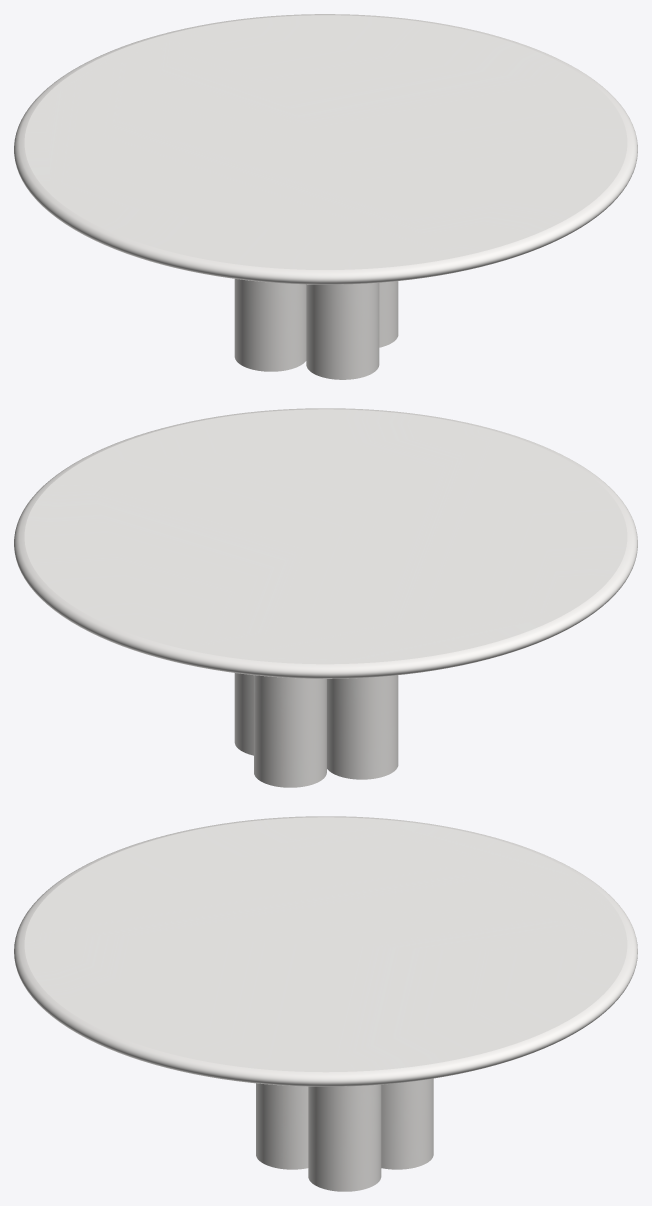
File: purewhite_round_round_secondtable.glb
3 renders of one model, top to bottom at view 1: azimuth 30°, elevation 25°; view 2: azimuth 150°, elevation 25°; view 3: azimuth 270°, elevation 25°, orthographic.
Visible parts, largest first — view 1: round_round, secondtable; view 2: round_round, secondtable; view 3: round_round, secondtable.
Part boxes in pixels (left/top/right/bottom): round_round: left=14, top=14, right=637, bottom=284; secondtable: left=234, top=279, right=398, bottom=379; round_round: left=14, top=408, right=637, bottom=678; secondtable: left=234, top=673, right=398, bottom=787; round_round: left=14, top=816, right=637, bottom=1086; secondtable: left=256, top=1078, right=433, bottom=1191.
Bounding box in the file's own units: 6.75 × 2.5 × 6.75.
Materials: 1 (1 with a texture image).
